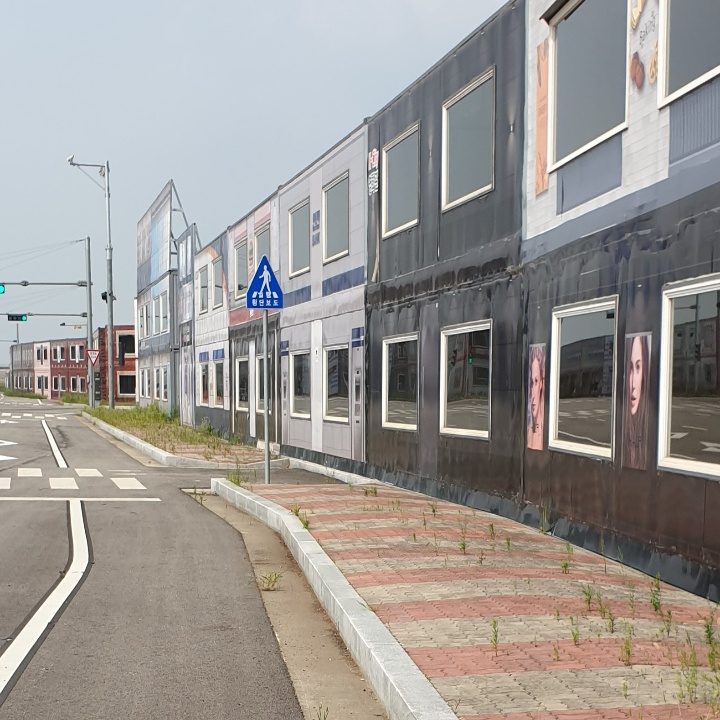cross: (252, 262, 277, 298)
